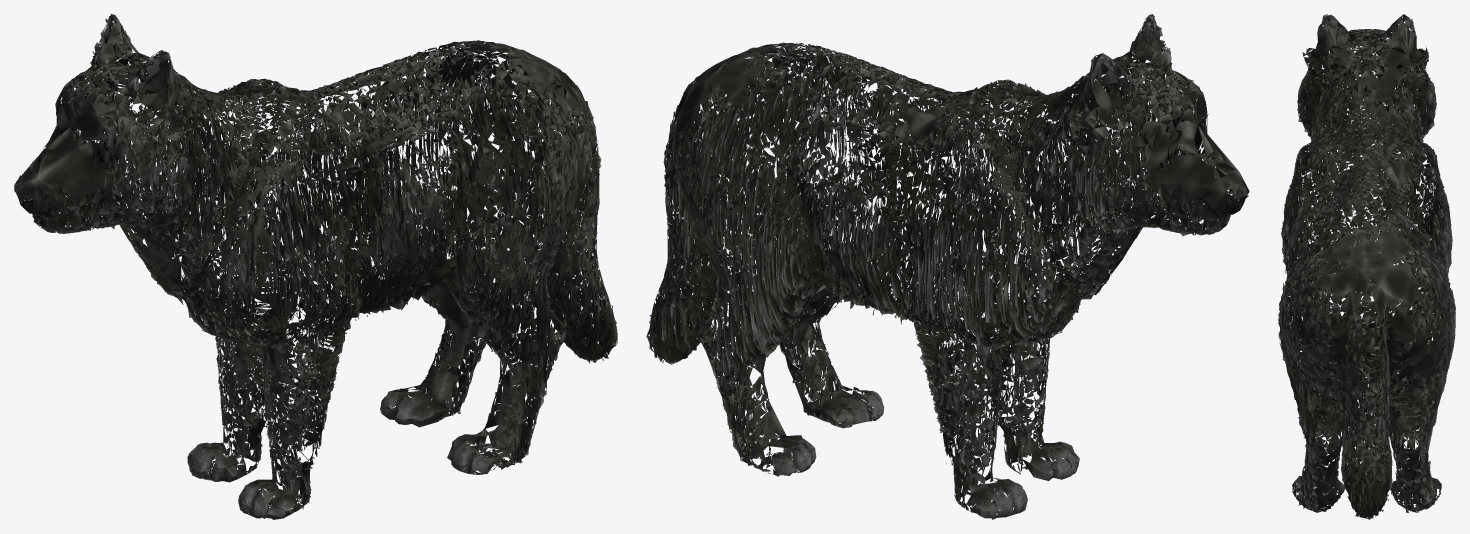
The picture shows the model from 3 angles, left to right: view 1: azimuth 30°, elevation 25°; view 2: azimuth 150°, elevation 25°; view 3: azimuth 270°, elevation 25°; orthographic projection. The views are drawn at different scales.
Visible parts, largest first — view 1: world; view 2: world; view 3: world.
Boxes of the visible parts, box(x1,y1,x2,y2) form: world: box(14, 14, 617, 519); world: box(646, 14, 1249, 519); world: box(1278, 14, 1455, 519).
Size of the model in its own units: 0.929 by 0.7218 by 0.3146.
Materials: 1 (1 with a texture image).
